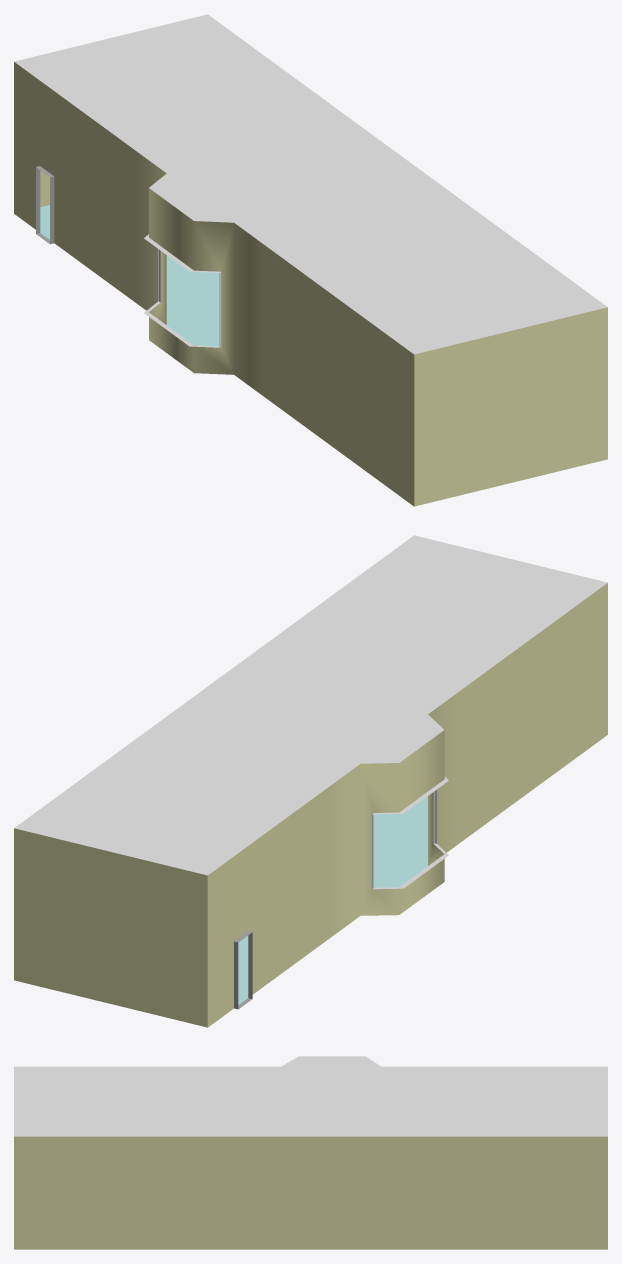
Rendered from KitchenRoom_mar23.fbx.
3 renders of one model, top to bottom at view 1: azimuth 30°, elevation 25°; view 2: azimuth 150°, elevation 25°; view 3: azimuth 270°, elevation 25°, orthographic. The views are drawn at different scales.
Visible parts, largest first — view 1: pCube121; view 2: pCube121; view 3: pCube121.
Part boxes in pixels (<box>): pCube121: <box>14,14,607,506</box>; pCube121: <box>14,535,607,1027</box>; pCube121: <box>14,1056,607,1249</box>.
Size of the model in its own units: 7.02 by 4.5 by 21.46.
